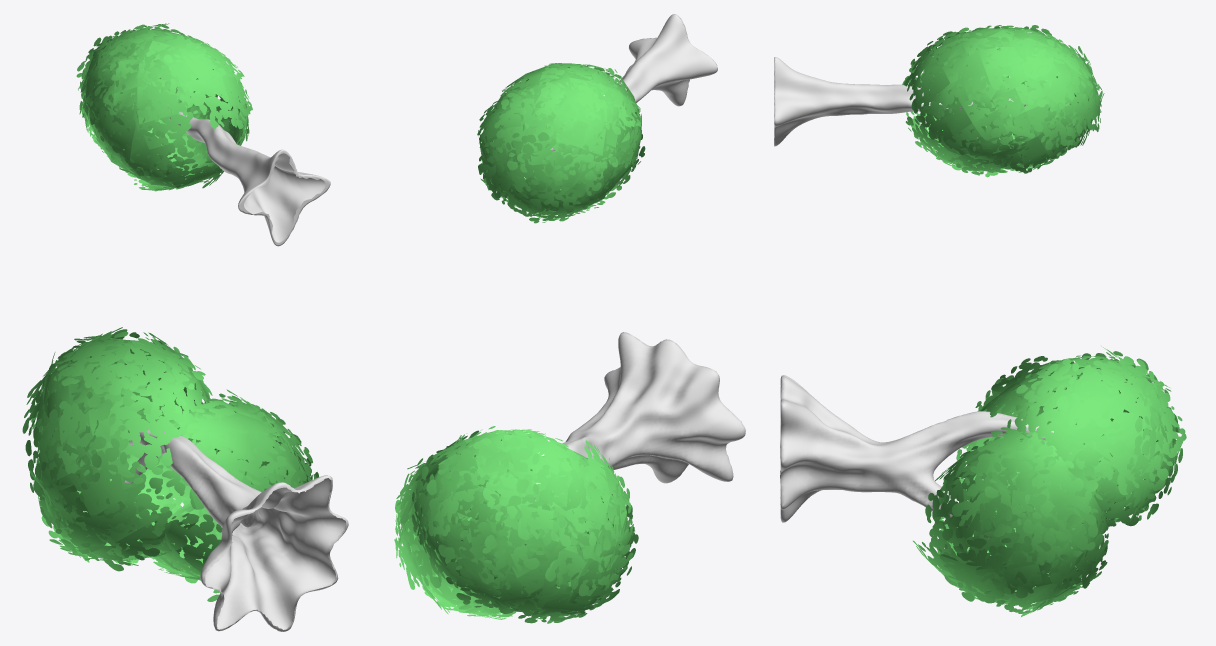
The model's file is TreesBunch.fbx.
3 views of the same model, side by side, from view 1: azimuth 30°, elevation 25°; view 2: azimuth 150°, elevation 25°; view 3: azimuth 270°, elevation 25° (orthographic). The views are drawn at different scales.
Parts seen in each view (by area): view 1: OakLOD0, SpruceLOD0; view 2: OakLOD0, SpruceLOD0; view 3: OakLOD0, SpruceLOD0.
Boxes of the visible parts, x1,y1,x2,y2 form: OakLOD0: (22,327,348,631); SpruceLOD0: (76,23,330,246); OakLOD0: (394,332,745,623); SpruceLOD0: (477,14,717,223); OakLOD0: (780,346,1186,616); SpruceLOD0: (774,25,1104,177).
Size of what is drawn, in the model's own units: 8.03 by 16.74 by 11.61.
